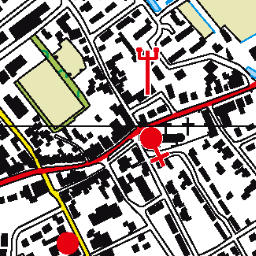church: (133, 125, 171, 170)
